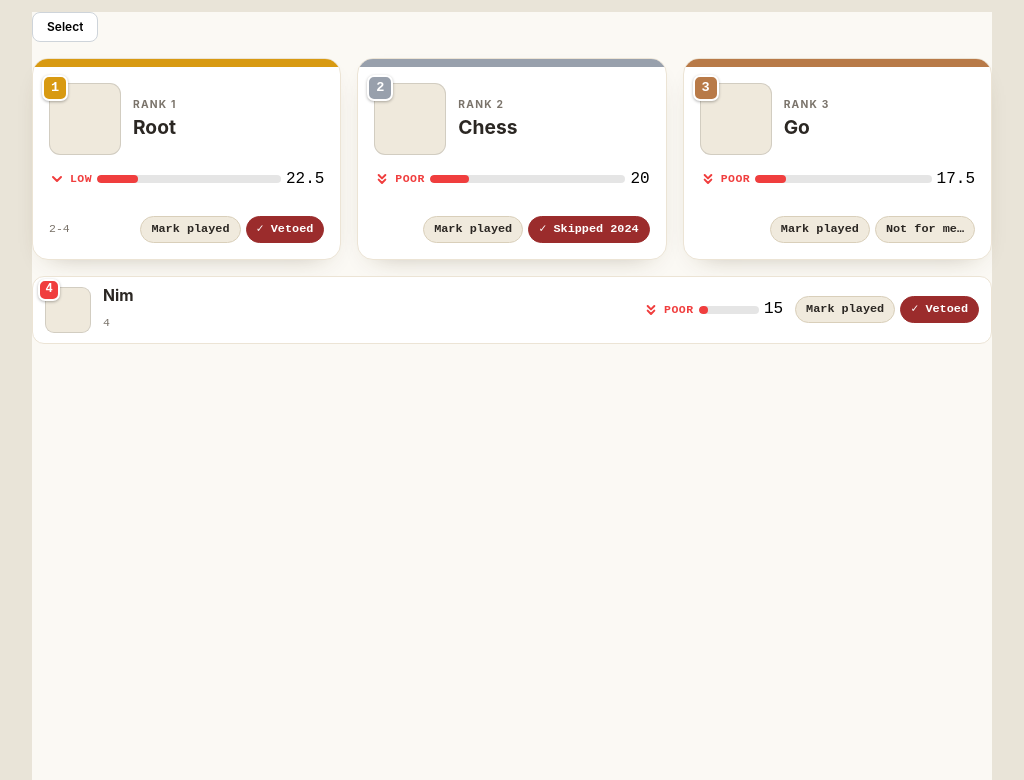
Test: GamesList › vetoes › bulk select › keeps only failed ids after a partial year failure
Step 1. Click the button "Select" → point(65, 27), box [32,12,98,42]
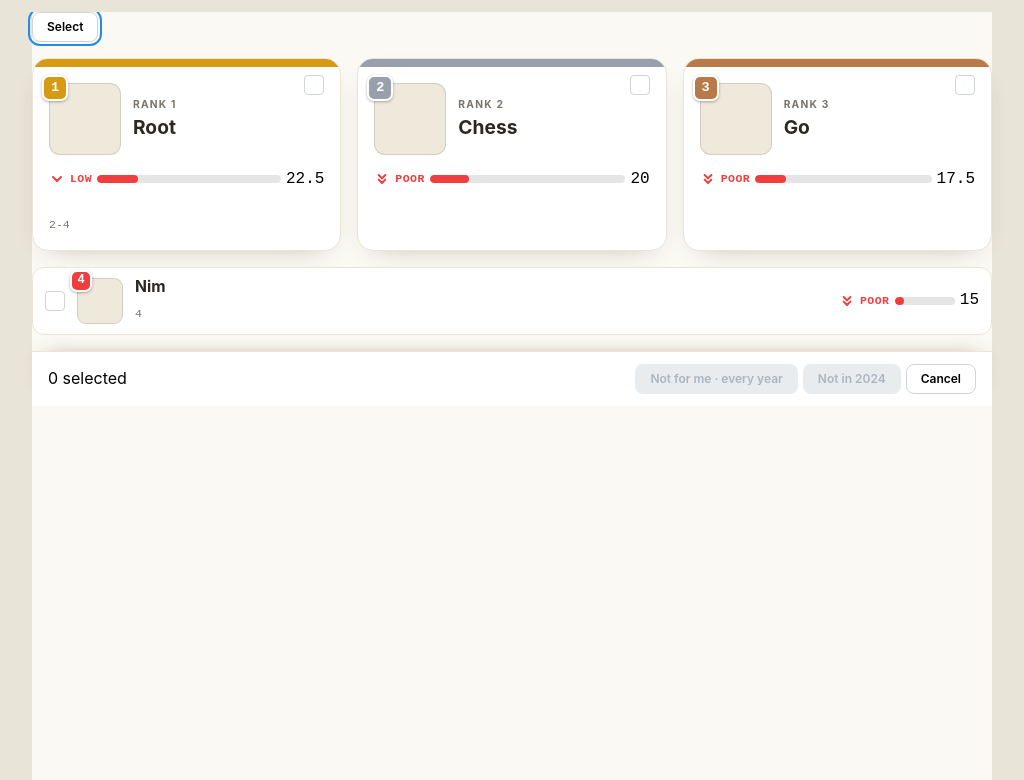
Step 2. Click the checkbox named "Select Go" → point(965, 85), box [955,75,975,95]
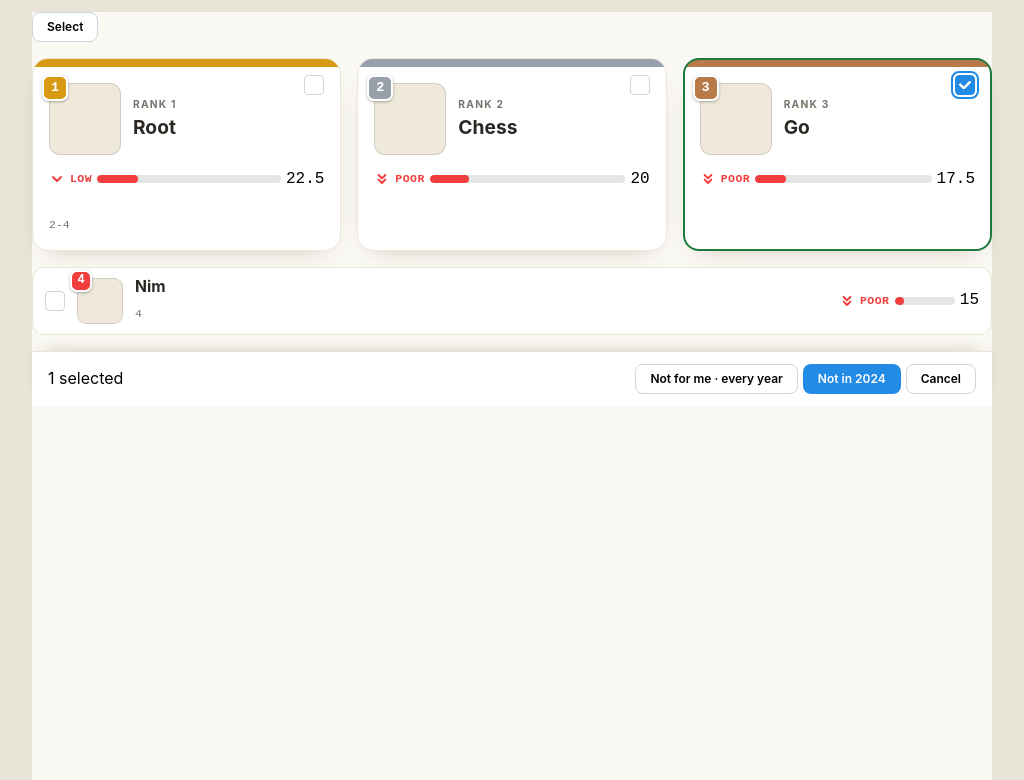
Step 3. Click the checkbox named "Select Nim" → point(55, 301), box [45,291,65,311]
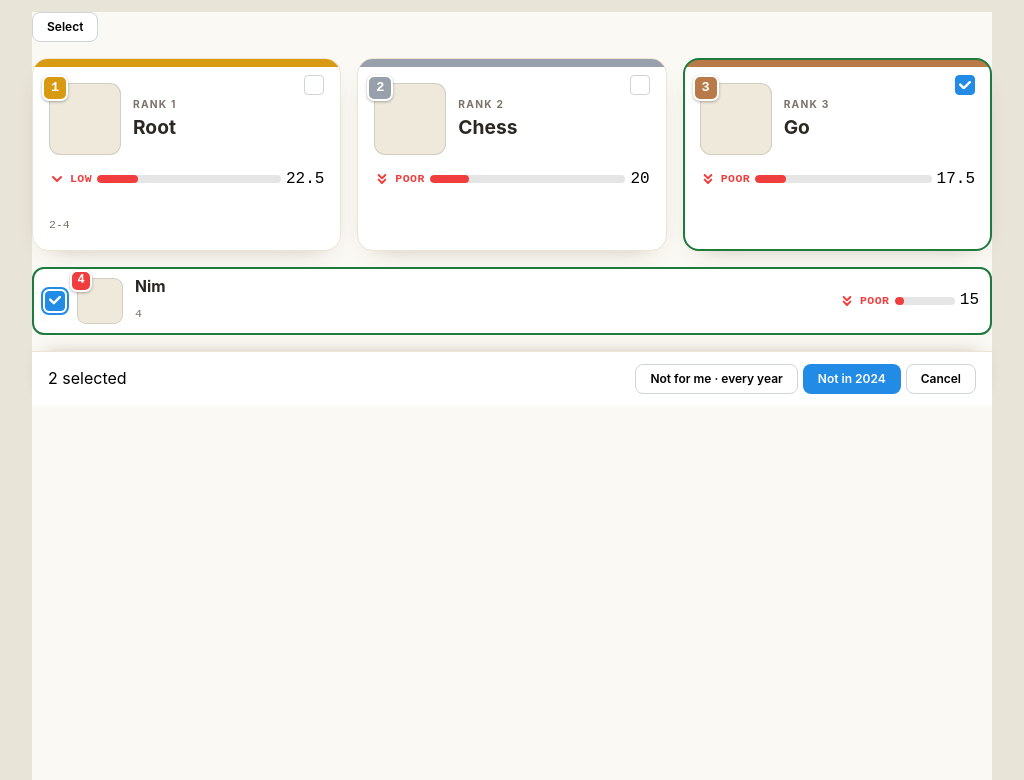
Step 4. Click the button "Not in 2024" → point(852, 379), box [803,364,901,394]
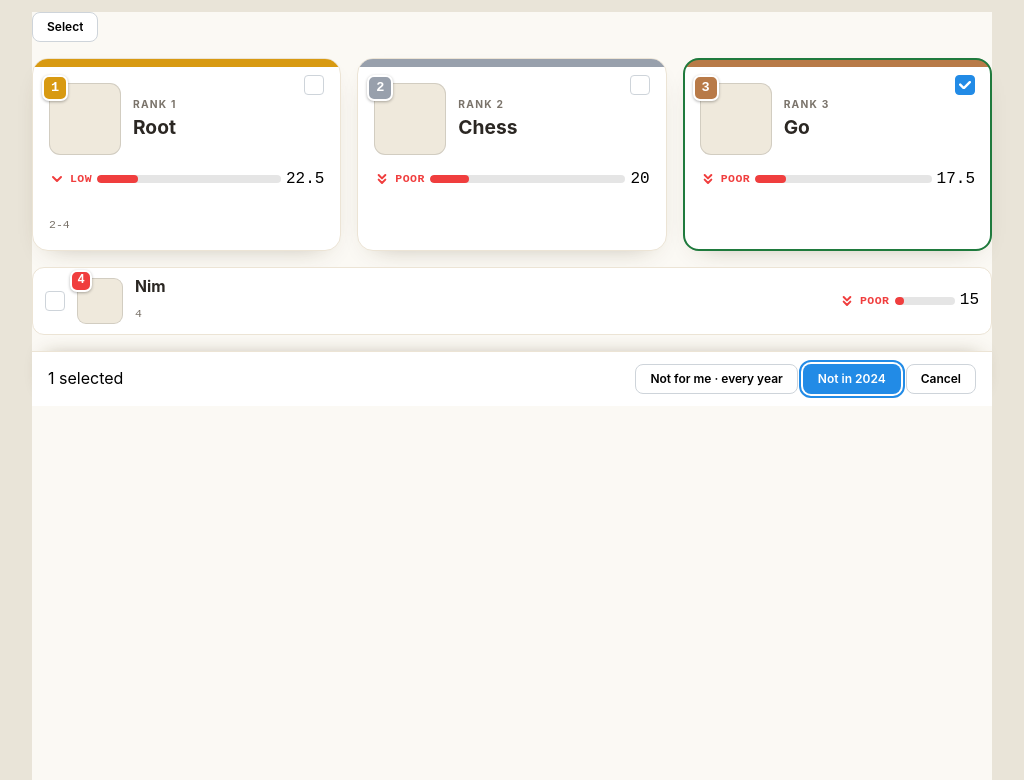
Expected: the checkbox named "Select Go" is checked, [955,75,975,95]
Expected: the checkbox named "Select Nim" is not checked, [45,291,65,311]
Expected: the text "1 selected" is shown, [48,366,123,391]
